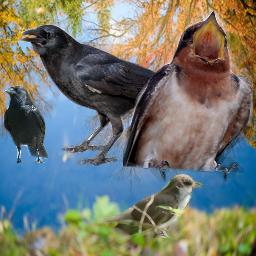Crow: (20, 23, 217, 166), (4, 85, 48, 163)
Cuckoo: (97, 173, 203, 238)
Swallow: (123, 10, 253, 182)
